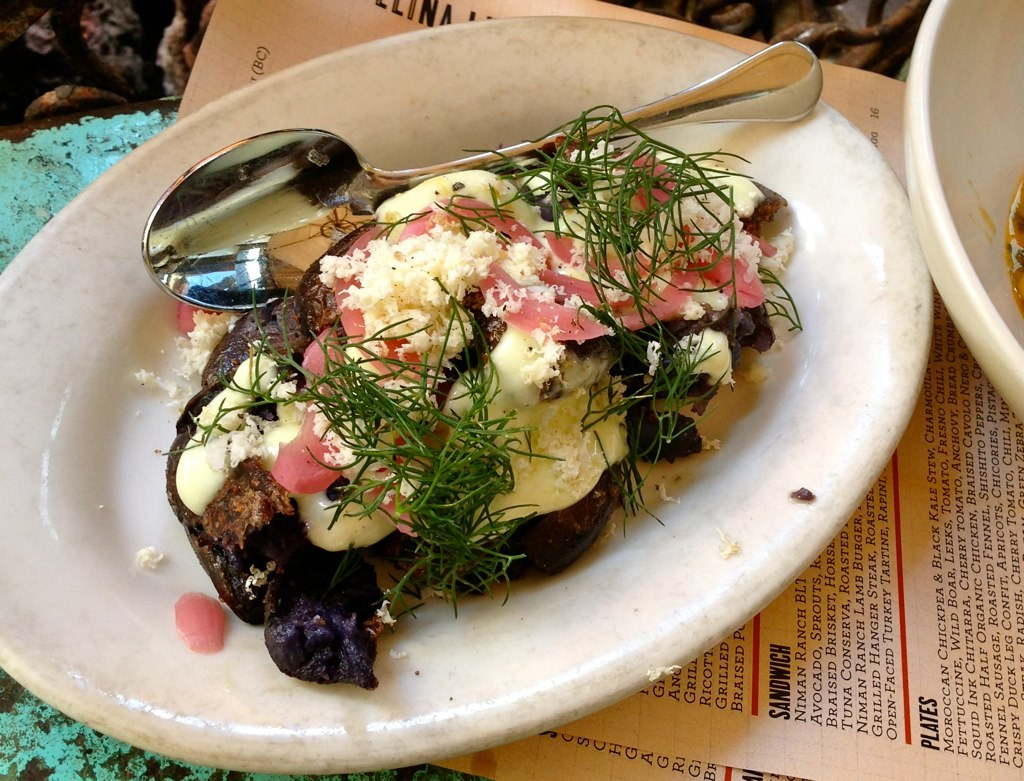salad: (153, 105, 810, 691)
